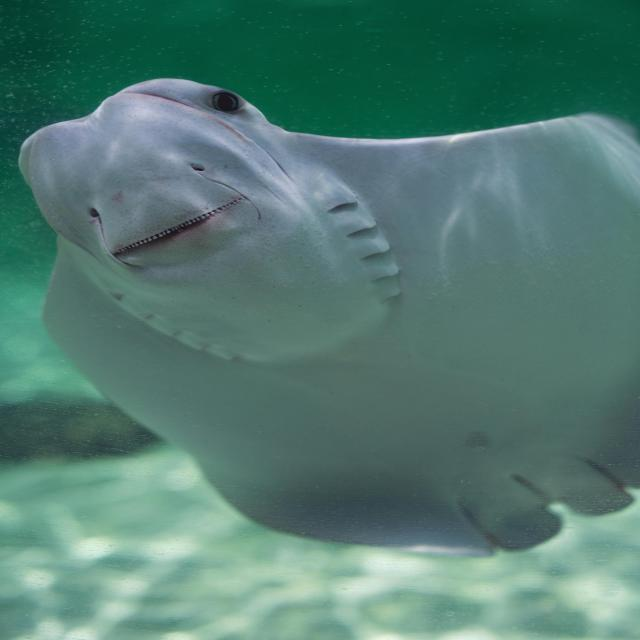stingray: (20, 79, 640, 555)
